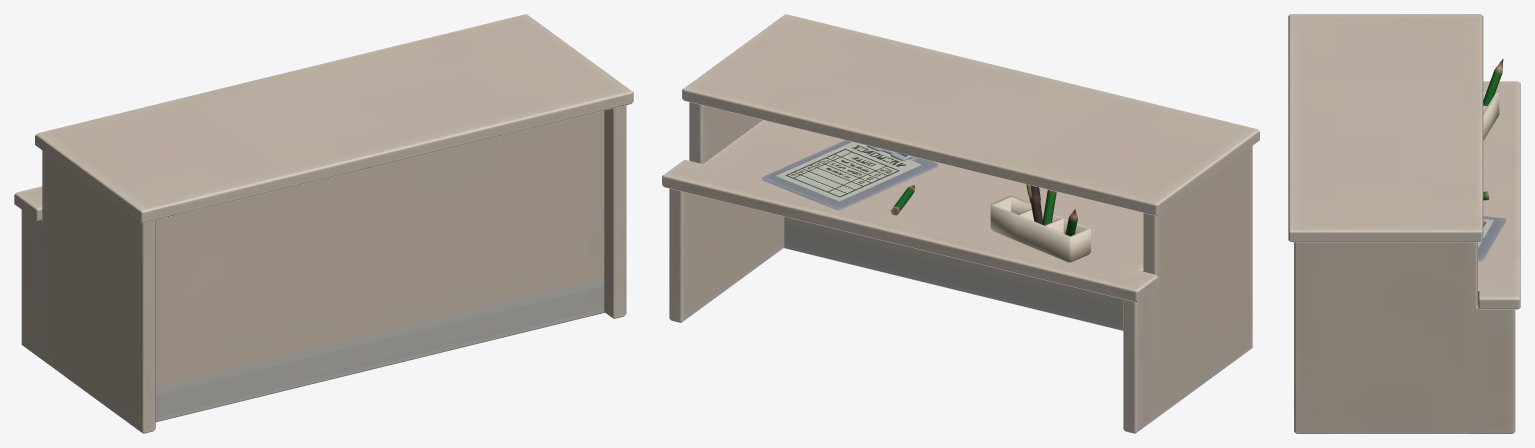
The picture shows the model from 3 angles, left to right: view 1: azimuth 30°, elevation 25°; view 2: azimuth 150°, elevation 25°; view 3: azimuth 270°, elevation 25°; orthographic projection. The views are drawn at different scales.
Bounding box in the file's own units: 20 × 8.79 × 9.01.
Materials: 2 (2 with a texture image).
